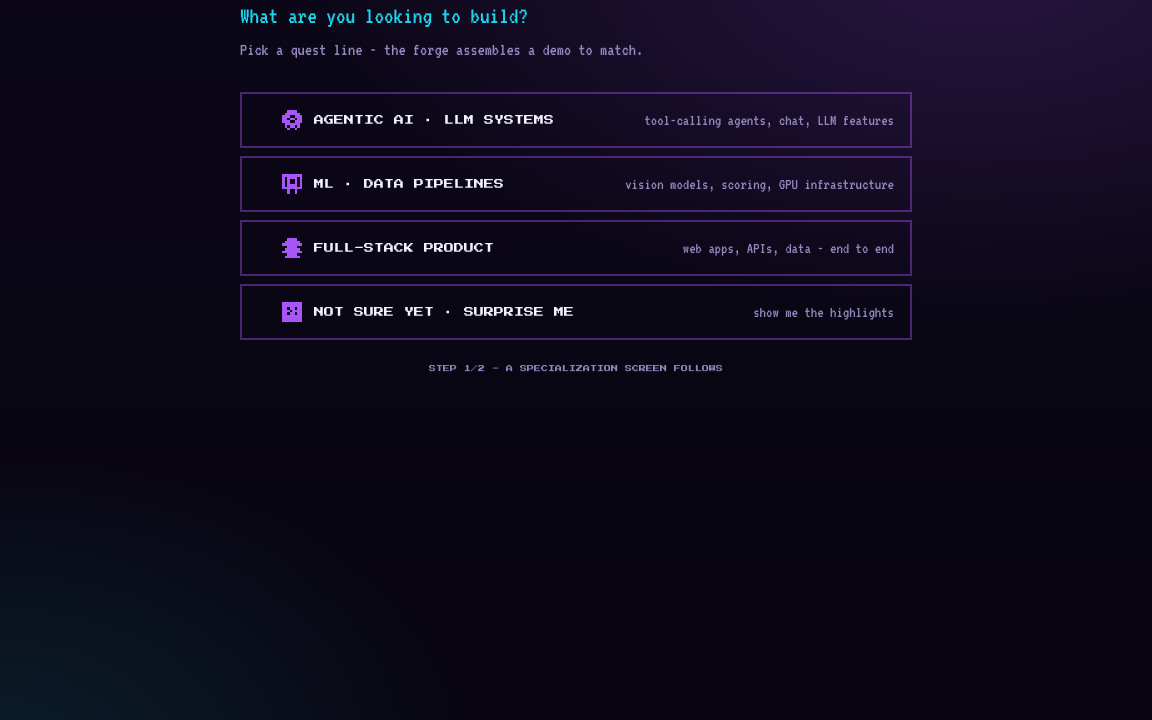
Test: walks category → specialization → forge (skippable) → tailored result
Expected: the text "What are you looking to build?" is shown, [240, 4, 528, 28]
Click the button "AGENTIC AI · LLM SYSTEMS": (434, 120) [240, 92, 912, 148]
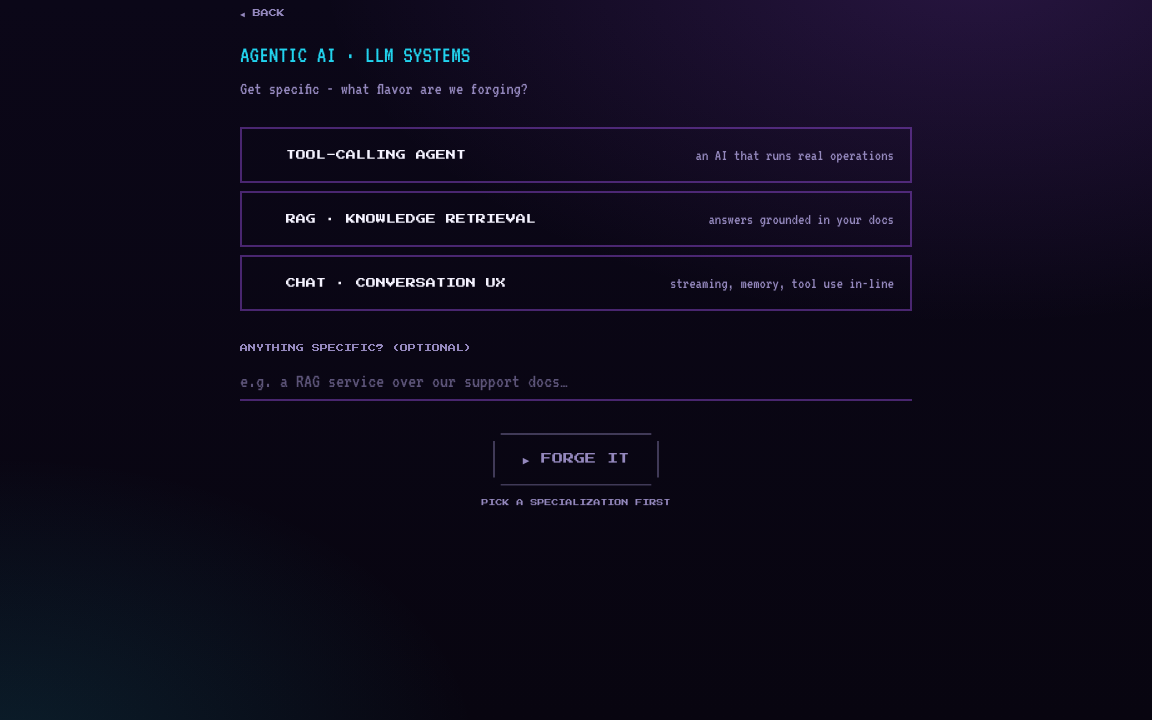
Expected: the text "Get specific - what flavor are we forging?" is shown, [240, 80, 528, 98]
Click the radio button labelled "TOOL-CALLING AGENT an AI that runs real operations": (376, 155) [240, 127, 912, 183]
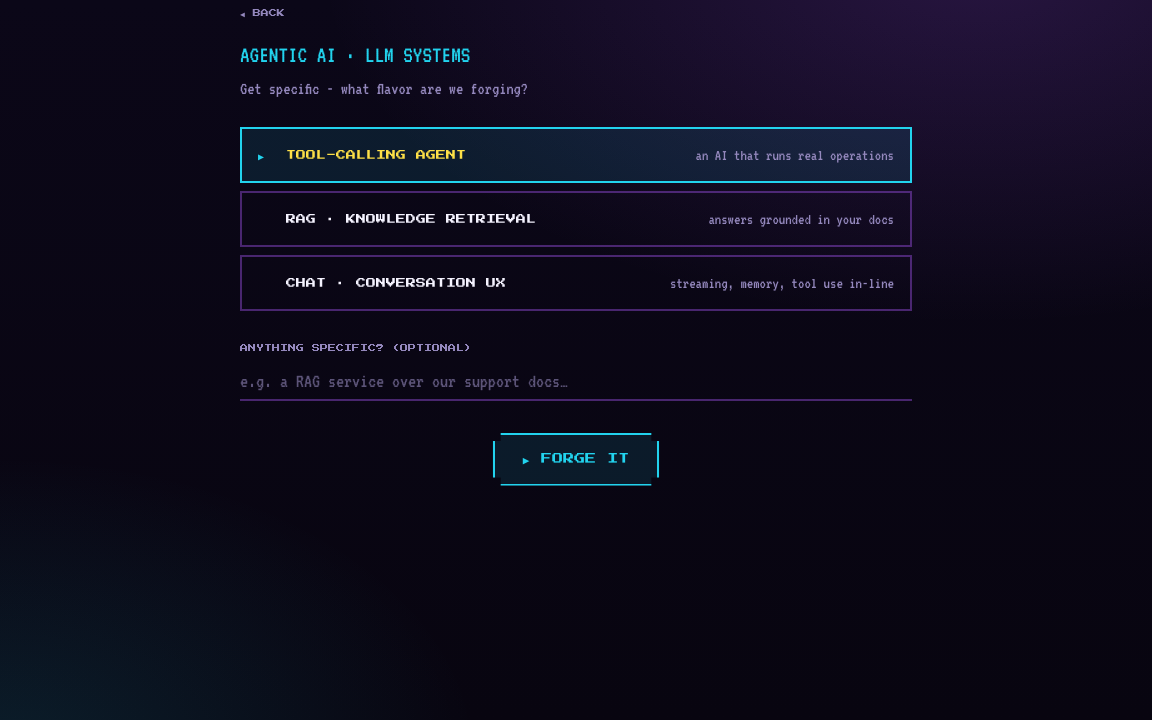
In the field with placeholder "e.g. a RAG service over our support docs…": (576, 384) [240, 367, 912, 401], type "a support-docs agent"
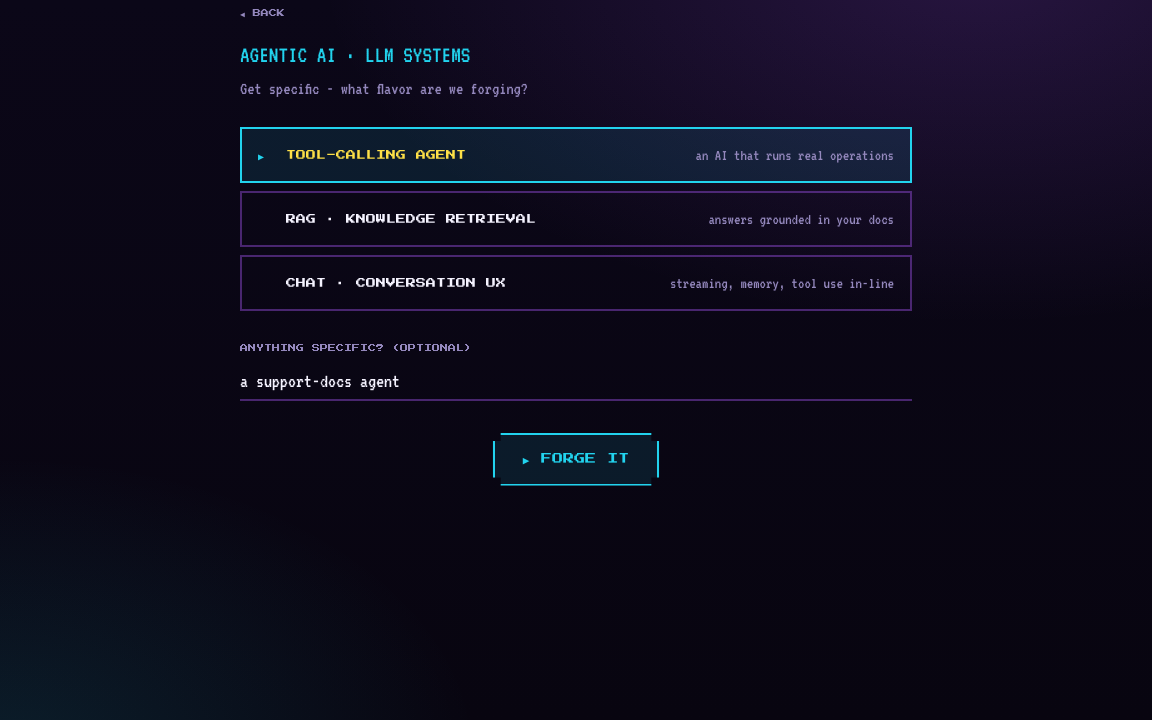
Click the button "▶ FORGE IT": (576, 459) [493, 433, 659, 486]
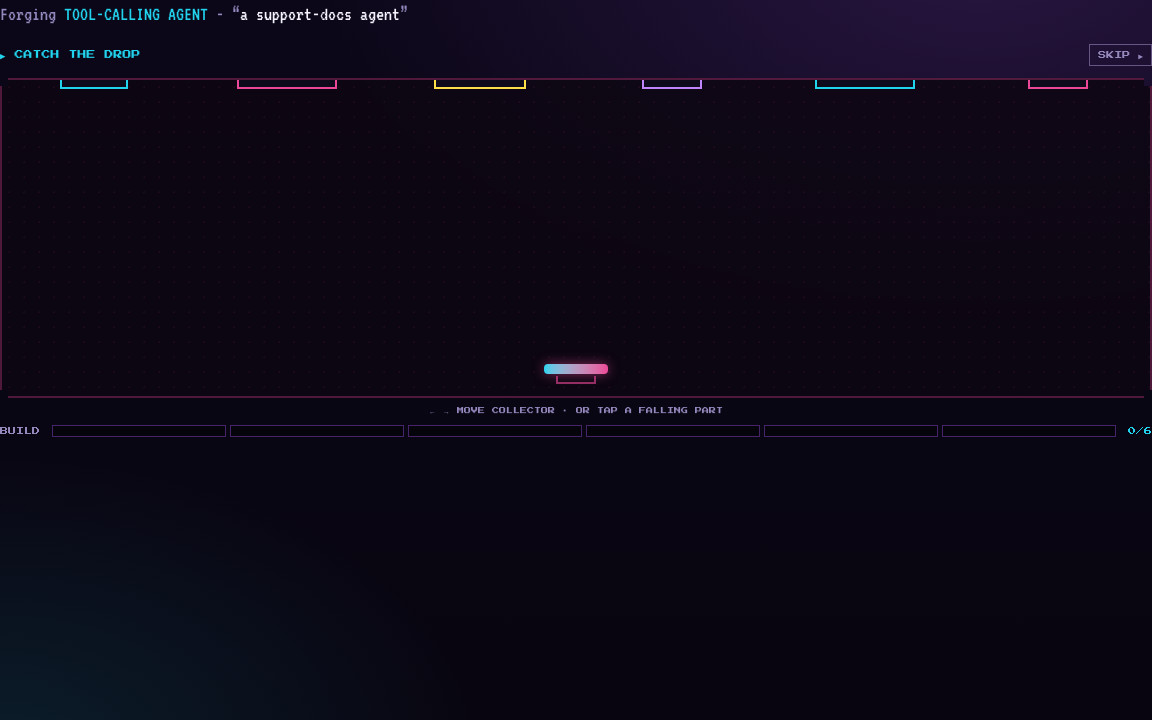
Expected: the element with test id "forge" is shown, [0, 44, 1151, 436]
Click the button "SKIP ▶": (1121, 55) [1089, 44, 1151, 66]
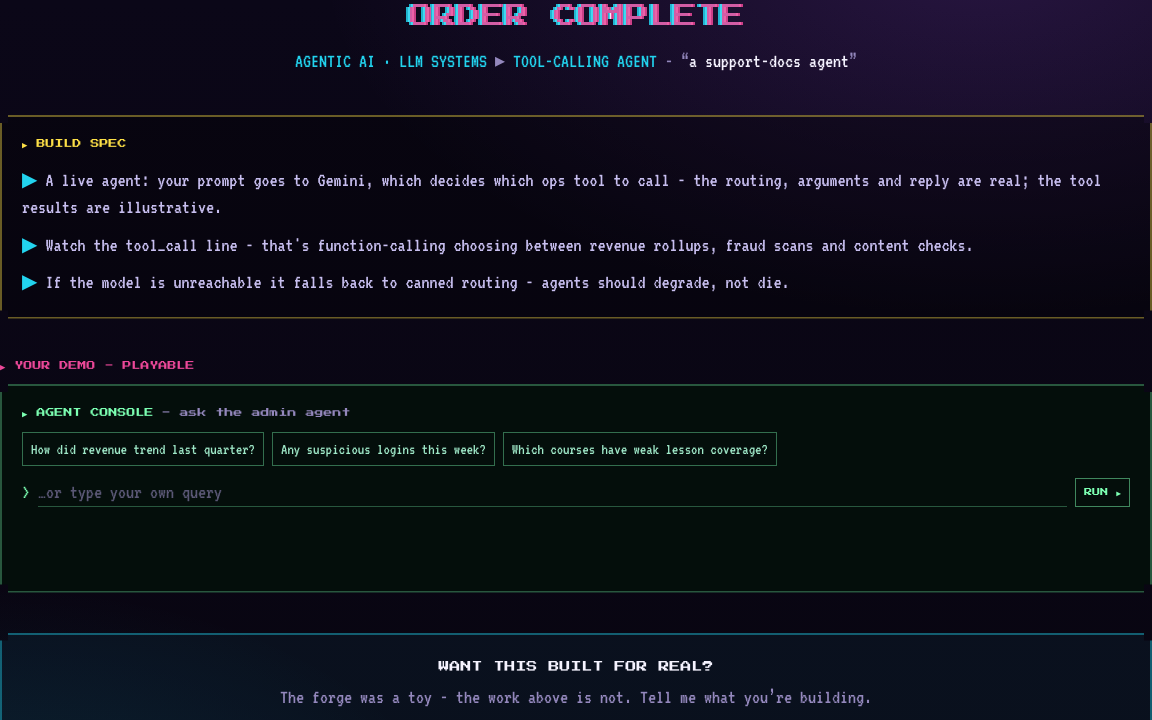
Expected: the text "ORDER COMPLETE" is shown, [408, 0, 744, 32]
Expected: the list item "A live agent: your p" is shown, [22, 170, 1101, 217]
